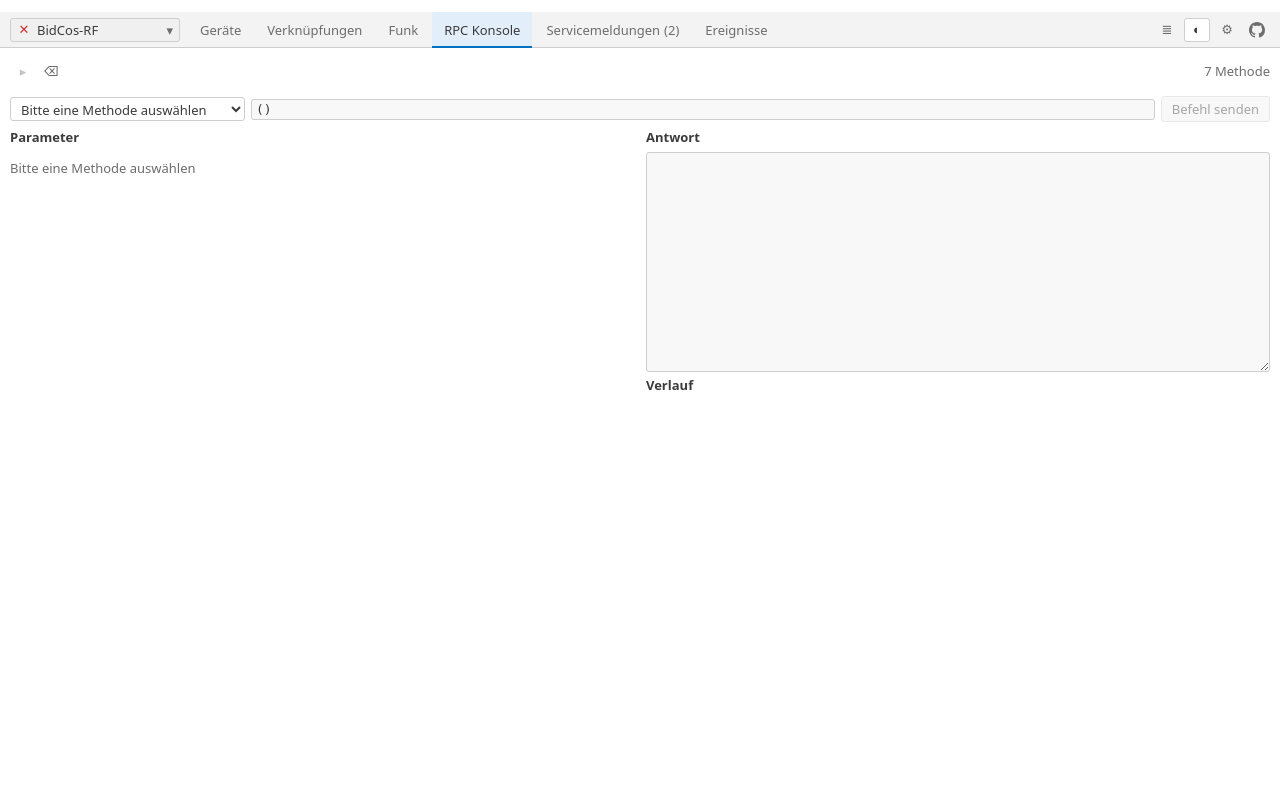
Scenario: the RPC console › generates a form per argument, and shows the exact tuple it will send
Select "getParamset" in the dropdown with test id "console-method" at (128, 109), box [10,97,245,121]
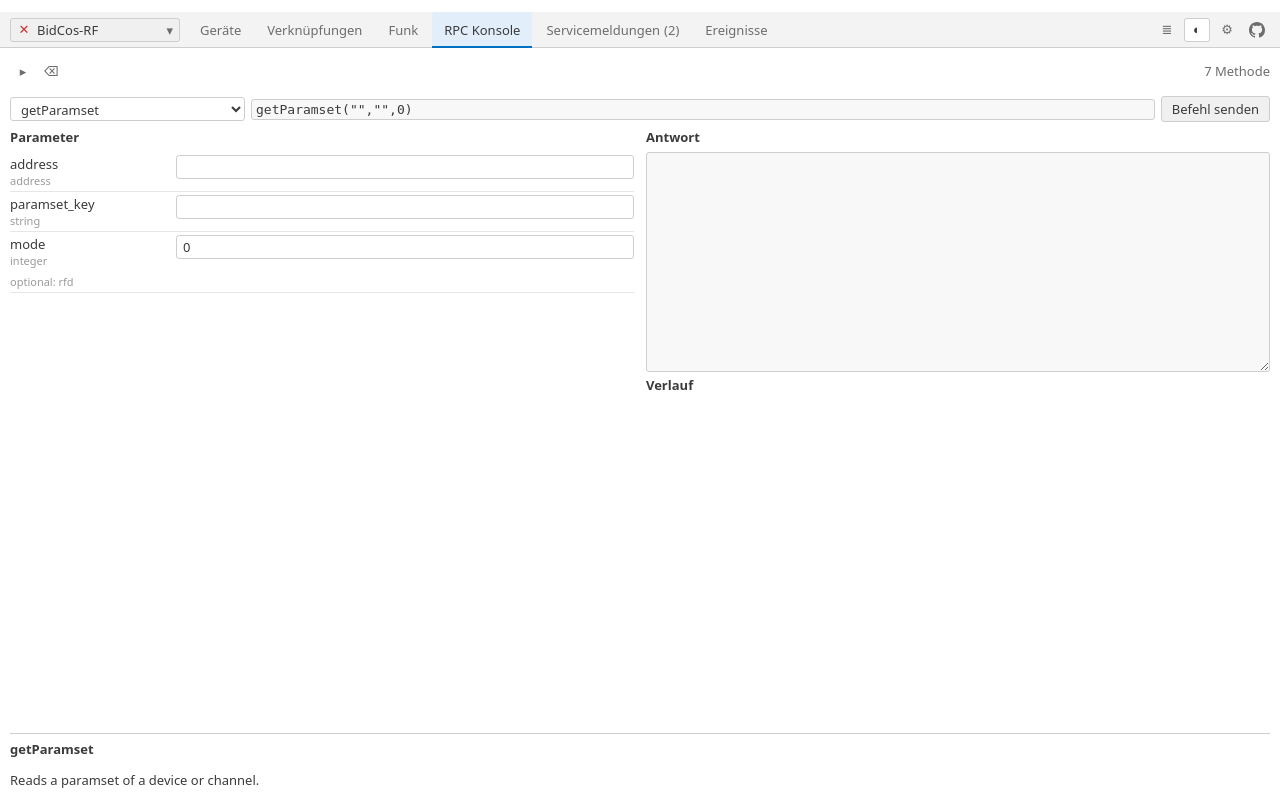
Now the element with test id "arg-address" is shown, box [10,152,634,192]
Type "MEQ0123456:1" into the field labelled "address address" at (405, 167), box [176,155,634,179]
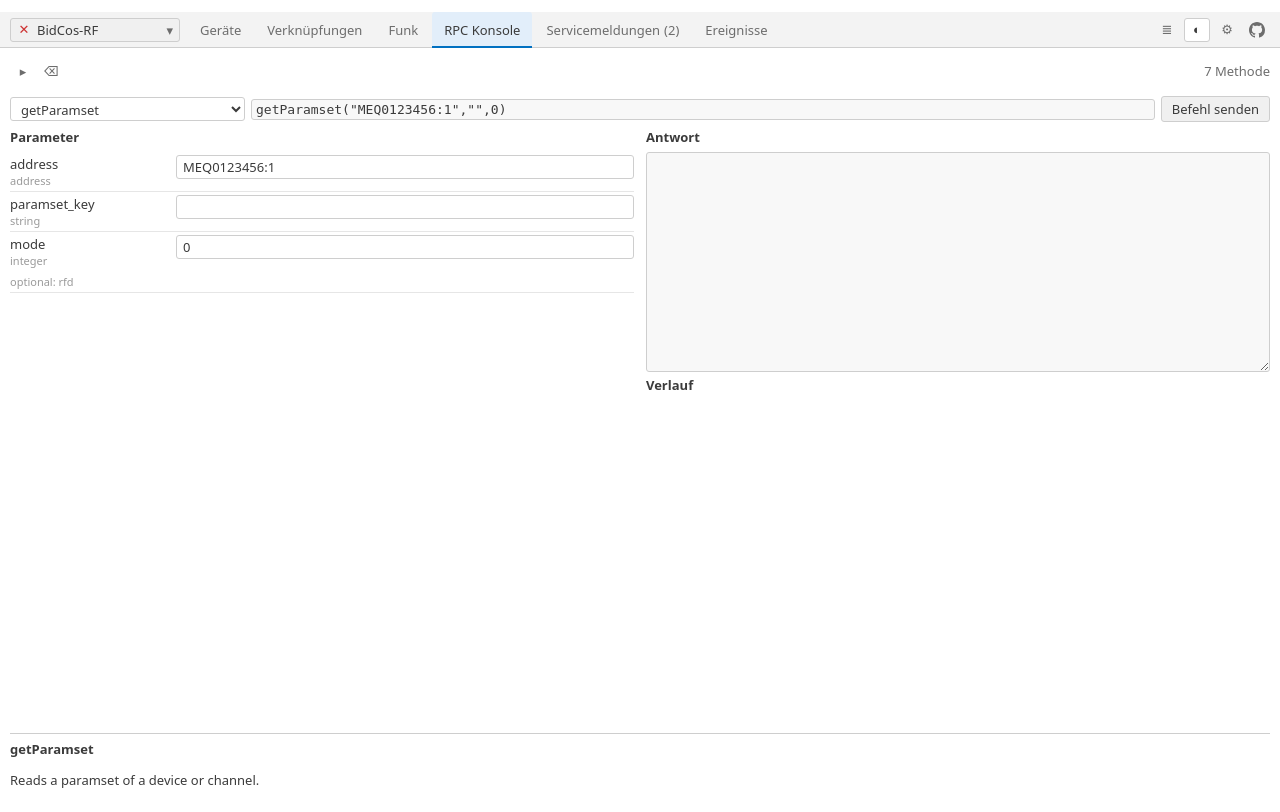
Type "MASTER" into the field labelled "paramset_key string" at (405, 207), box [176,195,634,219]
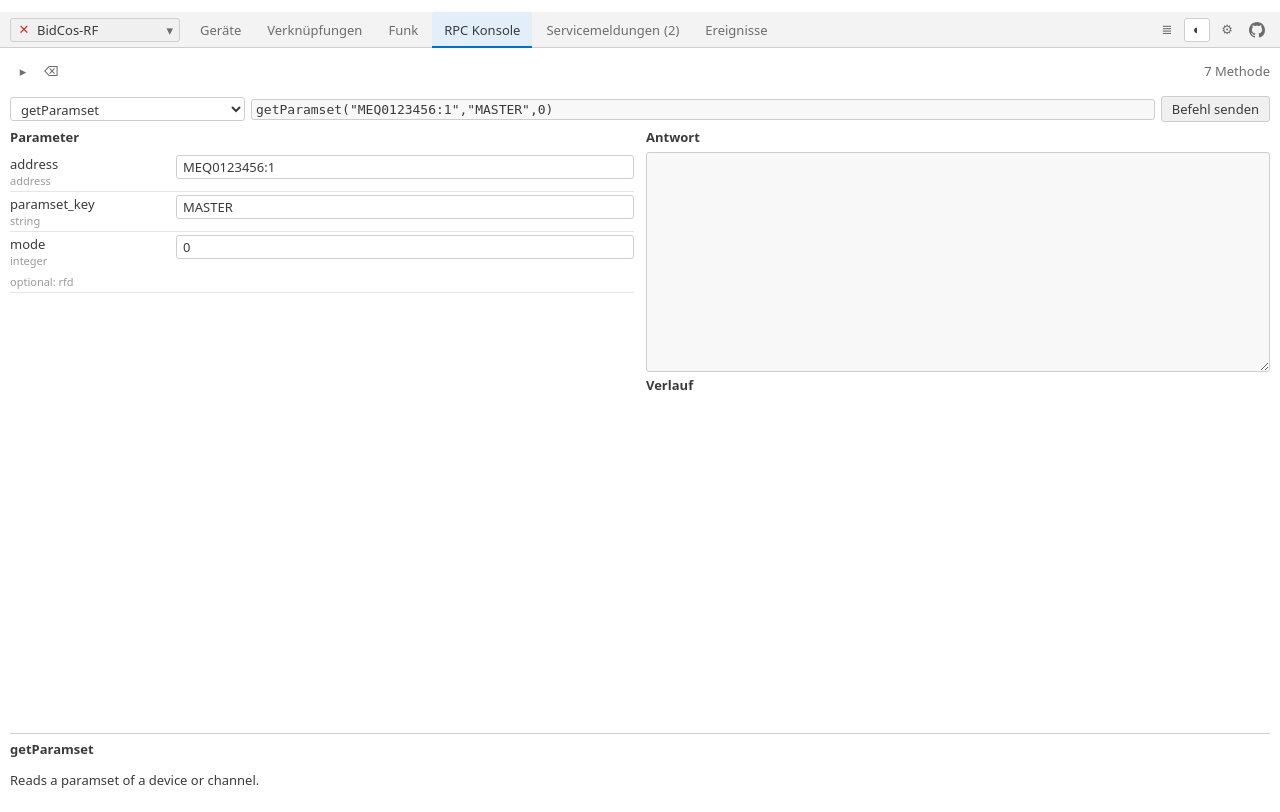
Now the text with test id "console-params" reads "getParamset(\"MEQ0123456:1\",\"MASTER\",0)", box [256,102,553,116]
